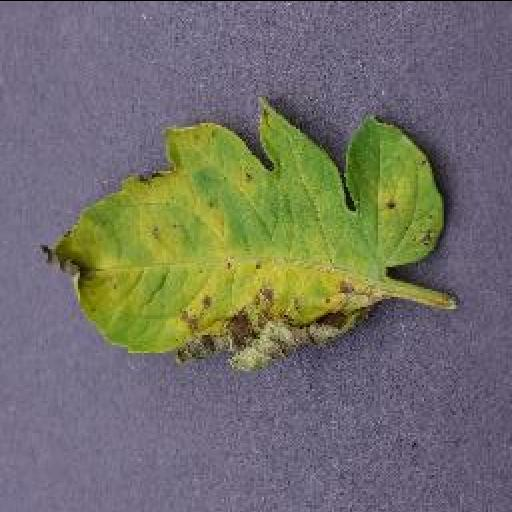disease_tomato: (38, 92, 442, 370)
